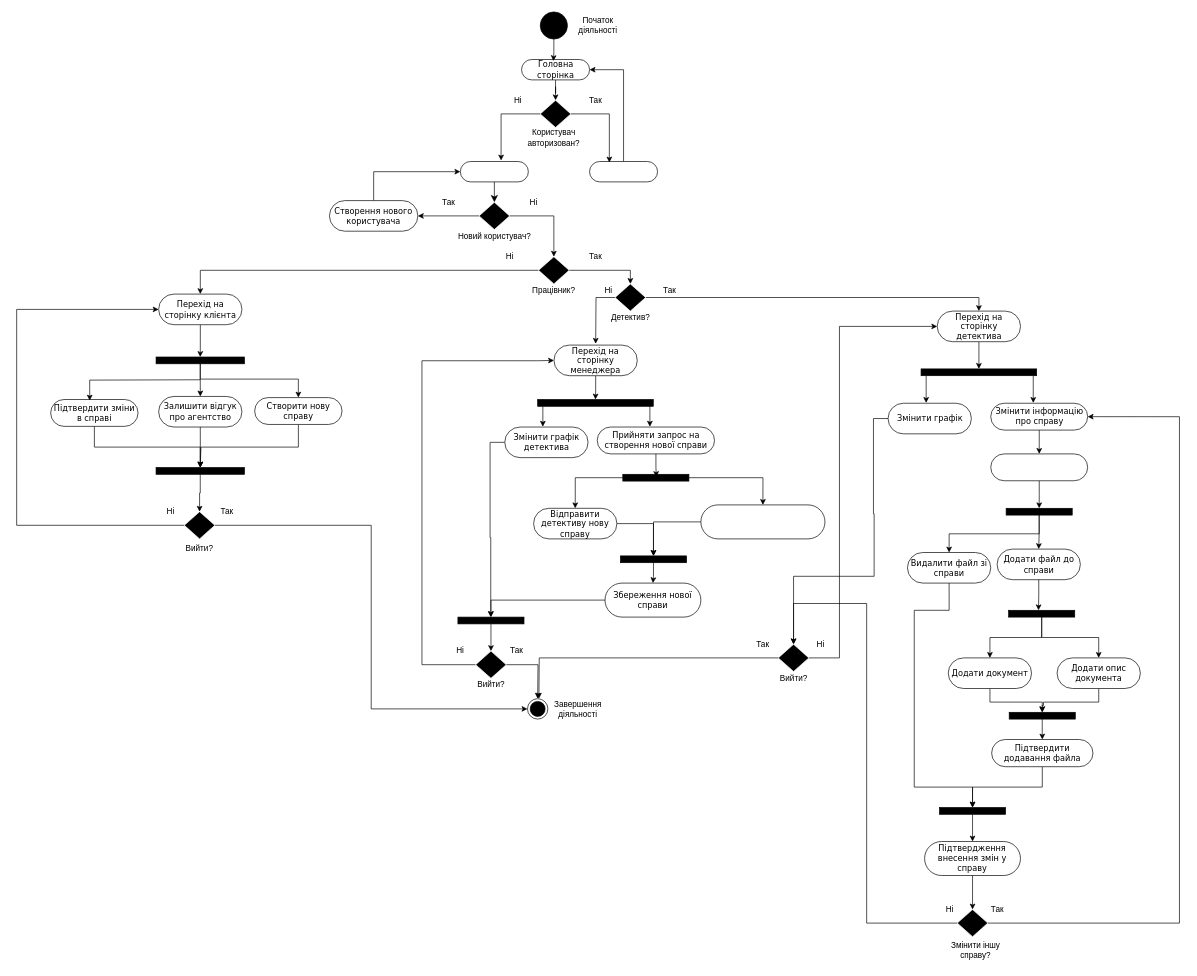
Image size: 1197x976. Some labels were removed from this diagram. The shapes that lost their labels are listed below. From the top down, each one's box as (x1, y1, x2, y2) in pixels, then its label:
(460, 161, 528, 182): Логін
(589, 161, 658, 182): Вийти
(990, 453, 1088, 481): Додати опис внесених змін
(700, 504, 825, 539): Відправити користувачу повідомлення про підтверджену справу
